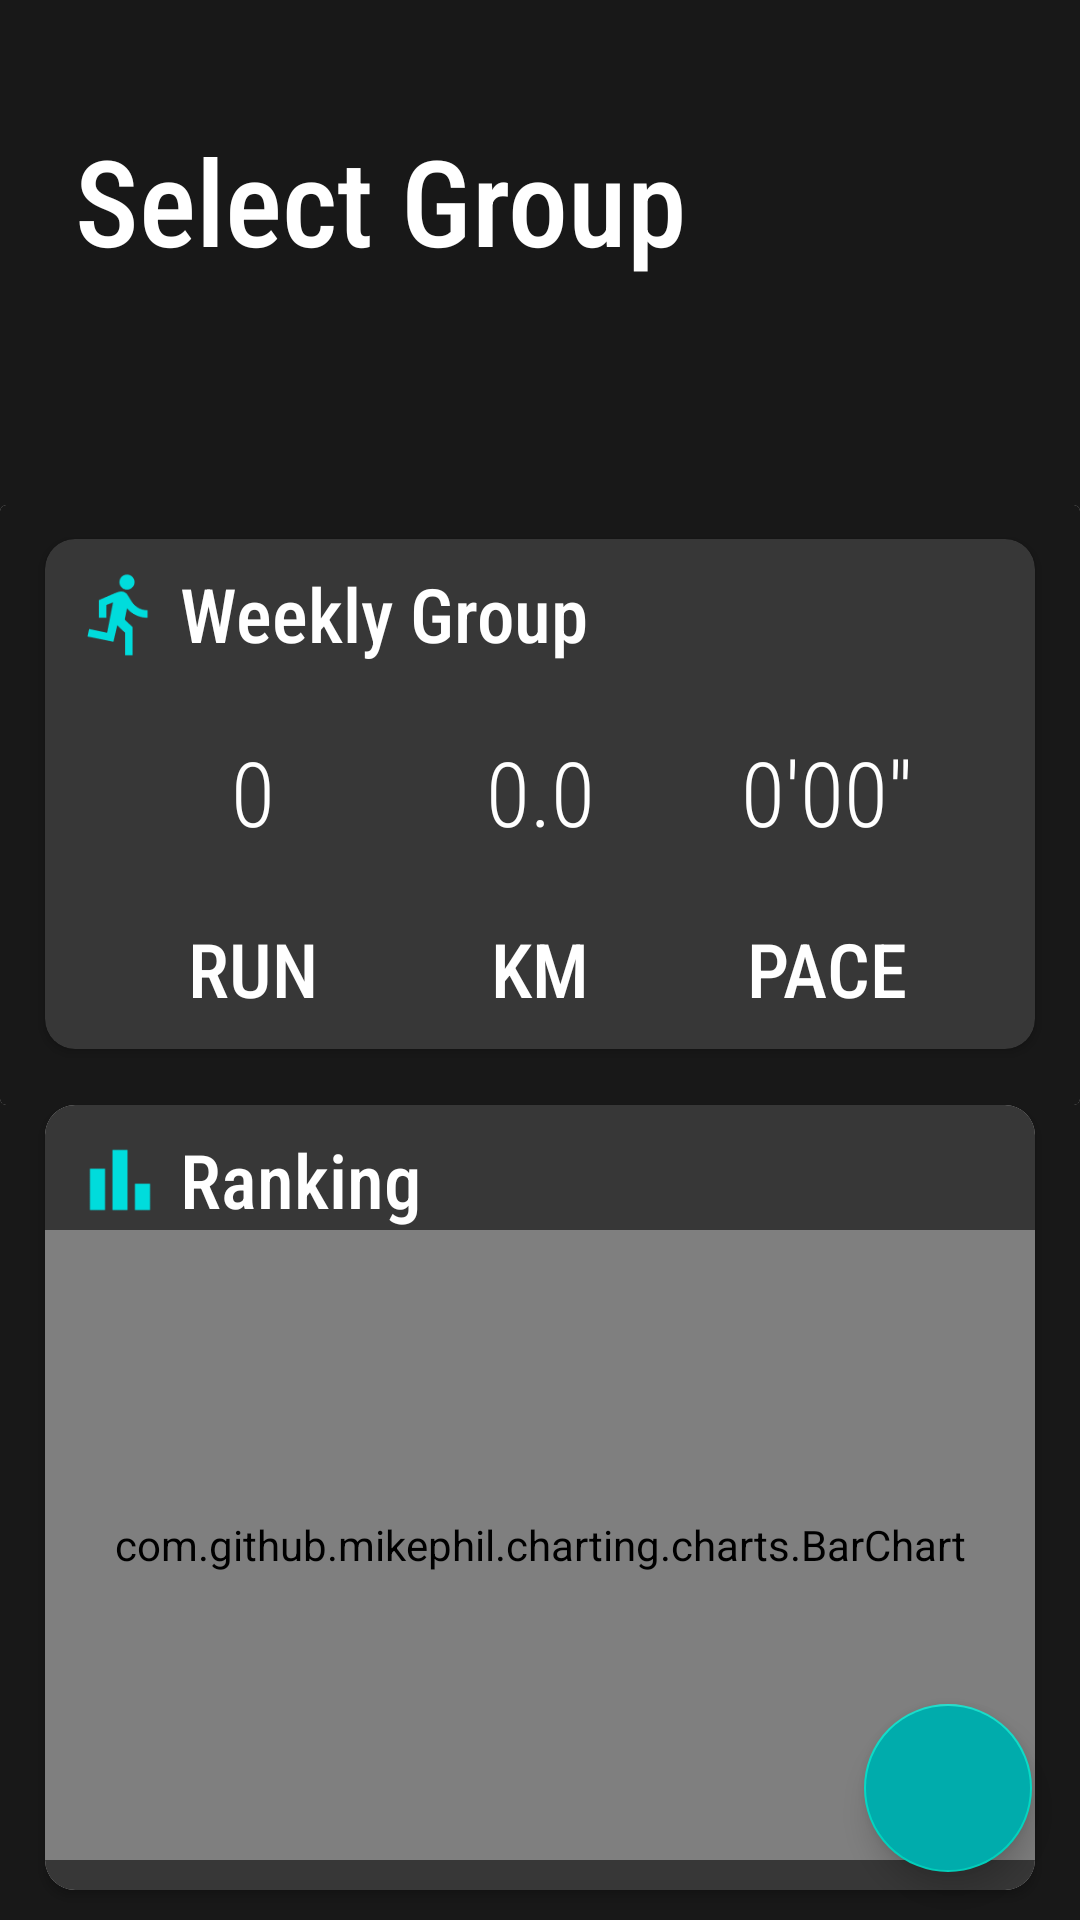

Named icons in this screenshot (1080 x 1920) and their bounding boxes, {"x1": x1, "y1": y1, "x2": x2, "y2": y2}:
directions run: {"x1": 87, "y1": 574, "x2": 148, "y2": 656}
